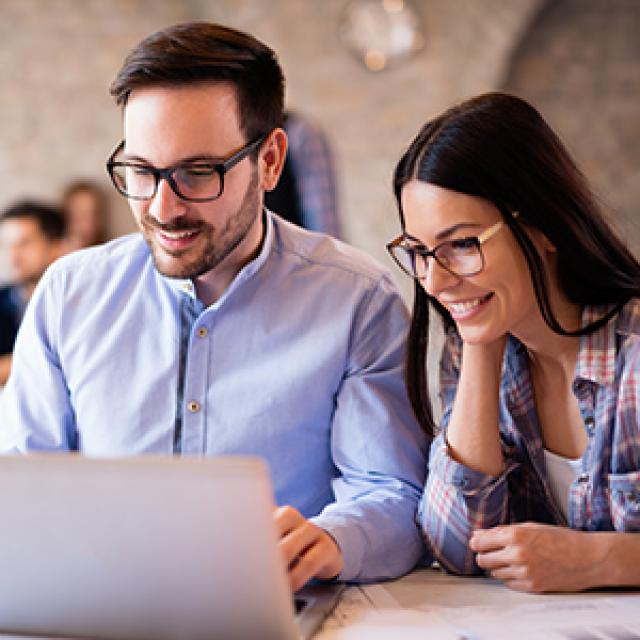Glasses: (105, 137, 264, 204), (385, 218, 505, 284)
